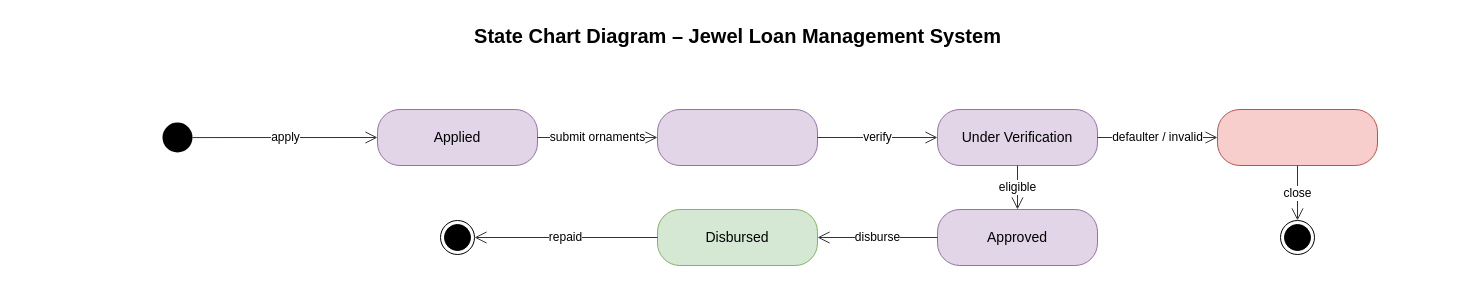
The diagram is 1474 pixels wide and 283 high, and some of its shapes have lost their labels. Here are the shapes that lost their labels. From the top down, the centre of each, then its label:
(737,137): Ornaments Submitted
(1297,137): Rejected
